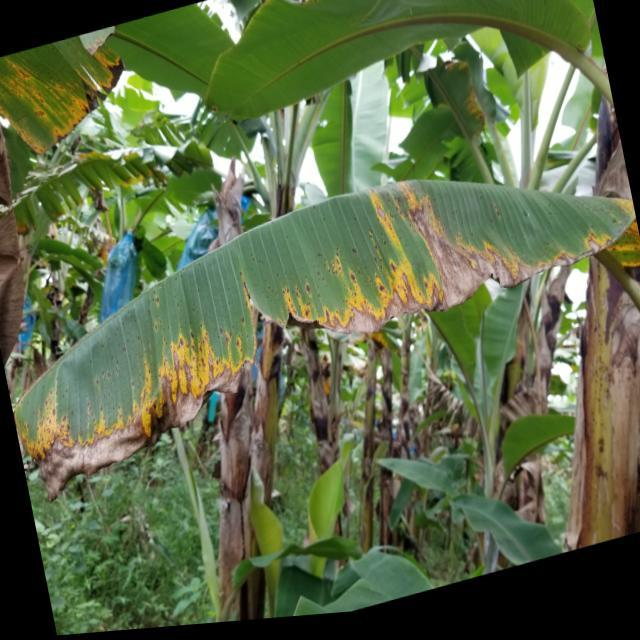Early_rust: (5, 175, 640, 469), (0, 14, 137, 174), (40, 118, 190, 207), (420, 40, 518, 141), (360, 314, 398, 371)
